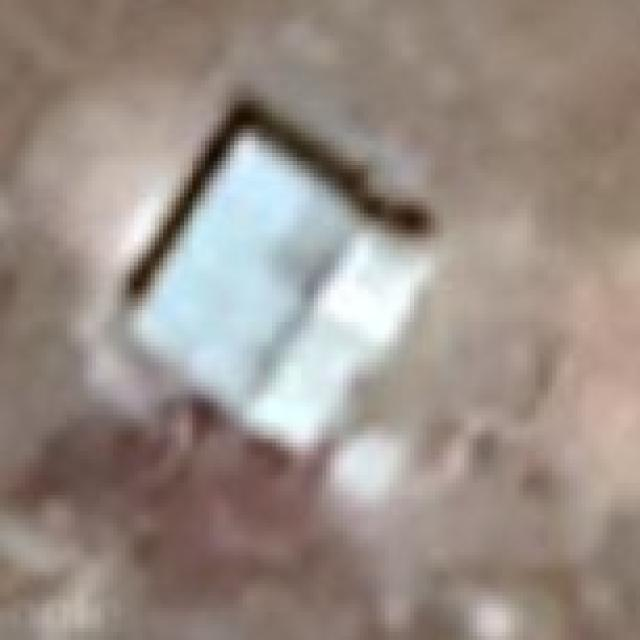Batiment: (129, 103, 430, 443)
